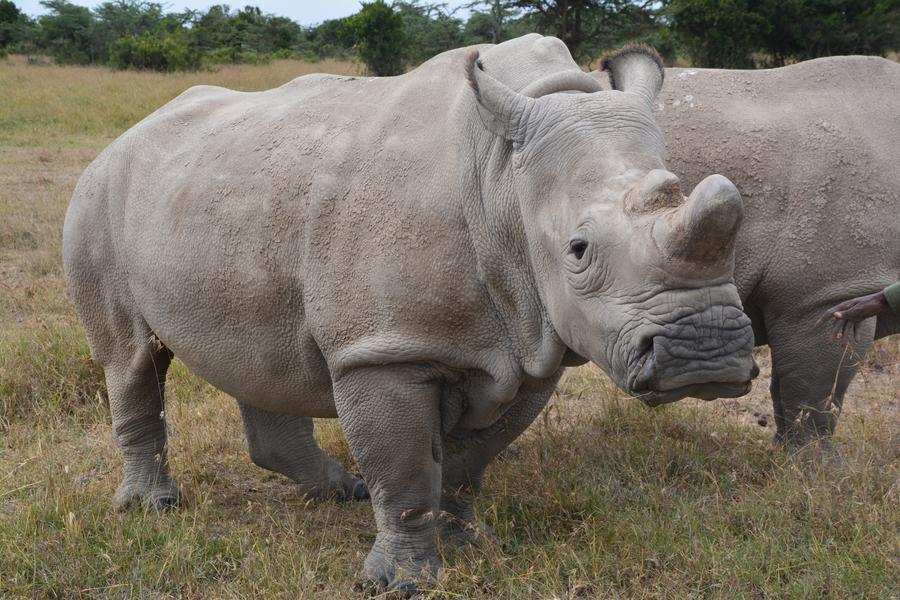rhino: (81, 43, 726, 483), (571, 45, 895, 419)
